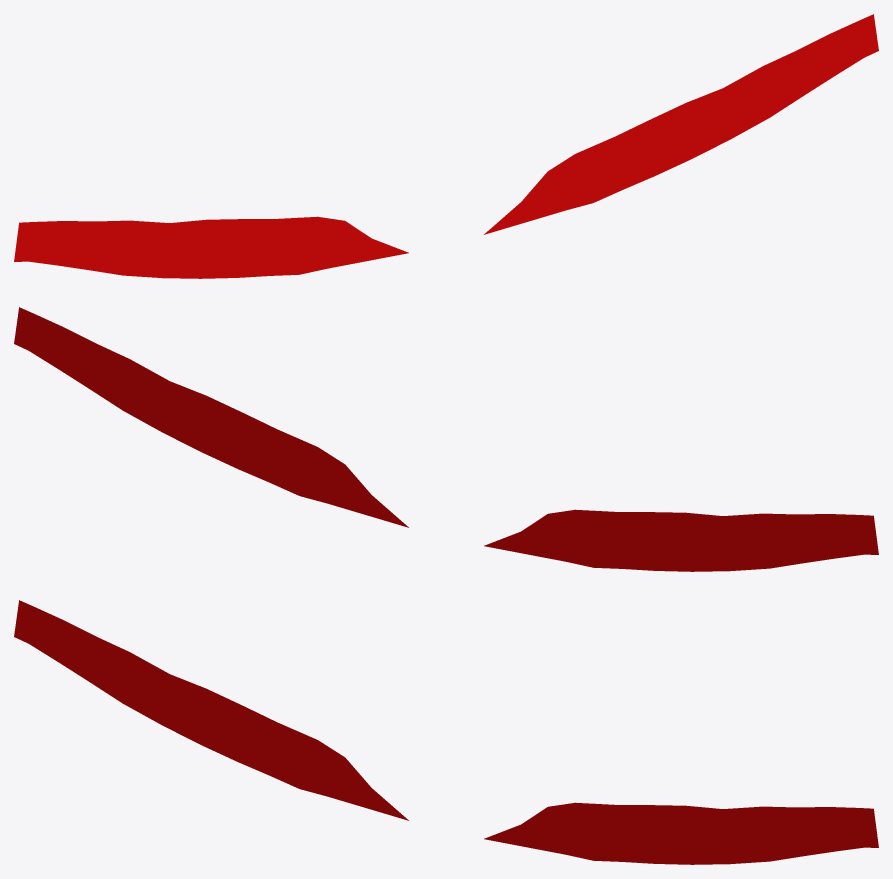
Rendered from frame49.fbx.
3 renders of one model, top to bottom at view 1: azimuth 30°, elevation 25°; view 2: azimuth 150°, elevation 25°; view 3: azimuth 330°, elevation 25°, orthographic.
Parts seen in each view (by area): view 1: MaterialLayer; view 2: MaterialLayer; view 3: MaterialLayer.
Boxes of the visible parts, x1,y1,x2,y2 form: MaterialLayer: [14, 14, 878, 278]; MaterialLayer: [14, 307, 878, 571]; MaterialLayer: [14, 600, 878, 864].
Bounding box in the file's own units: 1216 × 169 × 0.
